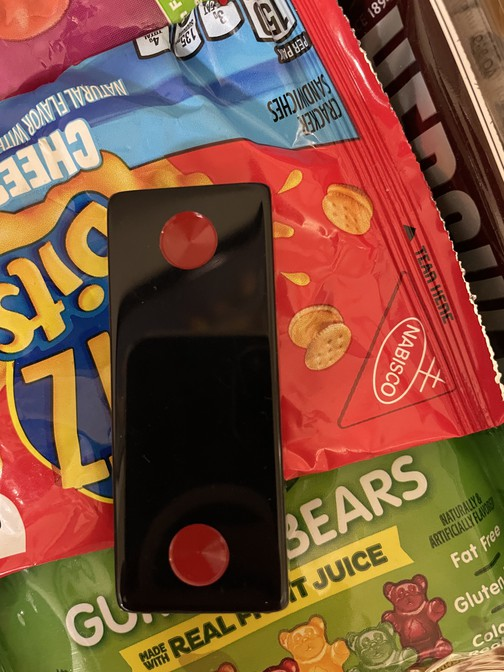earth: (104, 183, 287, 614)
